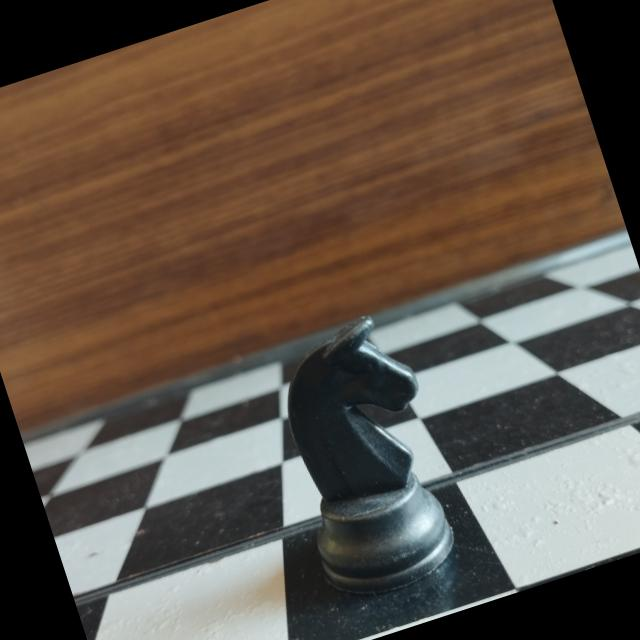Black Knight: (240, 292, 485, 622)
